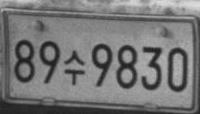0: (166, 46, 188, 93)
3: (141, 46, 163, 90)
8: (115, 44, 138, 90), (13, 38, 34, 83)
9: (91, 42, 113, 87), (39, 40, 60, 84)
수: (63, 49, 85, 86)
